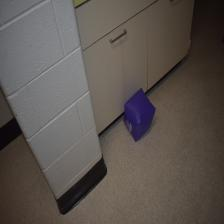cube: (124, 88, 156, 142)
